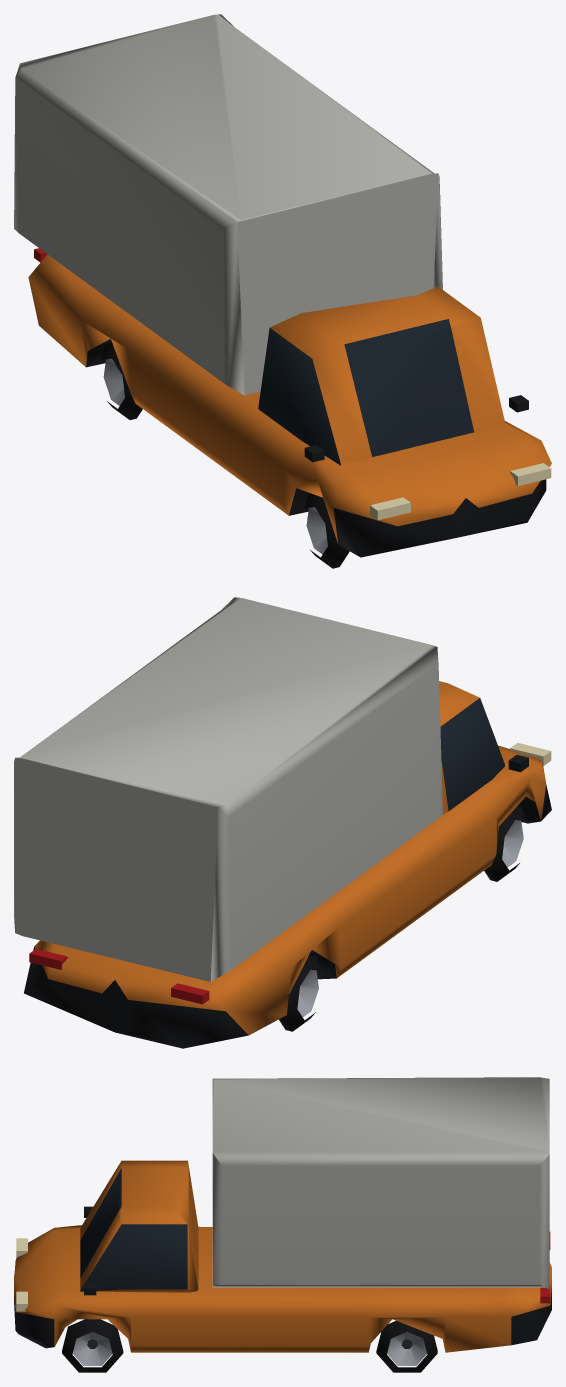
File: mobile-low.glb
3 views of the same model, one above another, from view 1: azimuth 30°, elevation 25°; view 2: azimuth 150°, elevation 25°; view 3: azimuth 270°, elevation 25° (orthographic). The views are drawn at different scales.
Parts seen in each view (by area): view 1: body, tyre_fr, tyre_rr, rim_fr, rim_rr, light_head_r; view 2: body, tyre_rr, tyre_fr, rim_fr, rim_rr, light_brake_r; view 3: body, tyre_fl, tyre_rl, rim_rl, rim_fl.
Boxes of the visible parts, x1=… form: body: x1=14, y1=14, x2=551, y2=557; tyre_fr: x1=304, y1=493, x2=349, y2=568; tyre_rr: x1=101, y1=344, x2=142, y2=419; rim_fr: x1=306, y1=507, x2=327, y2=554; rim_rr: x1=103, y1=358, x2=124, y2=405; light_head_r: x1=370, y1=497, x2=410, y2=520; body: x1=14, y1=597, x2=551, y2=1048; tyre_rr: x1=279, y1=955, x2=320, y2=1031; tyre_fr: x1=484, y1=806, x2=525, y2=881; rim_fr: x1=502, y1=820, x2=523, y2=867; rim_rr: x1=297, y1=969, x2=318, y2=1017; light_brake_r: x1=171, y1=983, x2=209, y2=1004; body: x1=14, y1=1077, x2=551, y2=1352; tyre_fl: x1=62, y1=1319, x2=123, y2=1372; tyre_rl: x1=376, y1=1320, x2=437, y2=1372; rim_rl: x1=387, y1=1331, x2=426, y2=1365; rim_fl: x1=72, y1=1331, x2=112, y2=1365.
Size of what is drawn, in the model's own units: 2.34 by 2.96 by 6.5.
